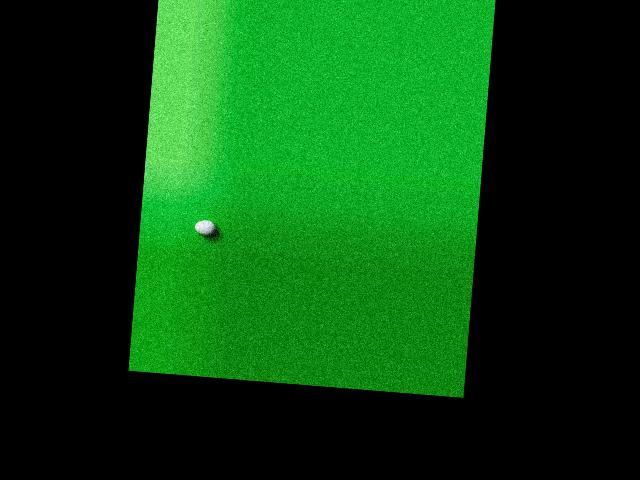egg: (194, 219, 216, 236)
